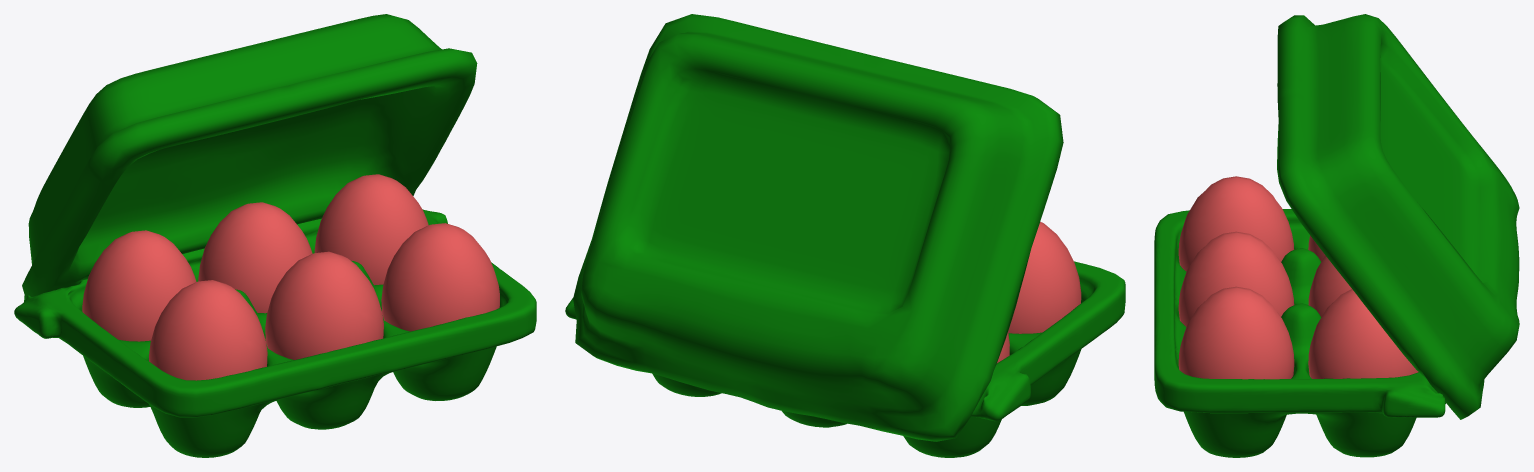
3 views of the same model, side by side, from view 1: azimuth 30°, elevation 25°; view 2: azimuth 150°, elevation 25°; view 3: azimuth 270°, elevation 25° (orthographic). The views are drawn at different scales.
Parts seen in each view (by area): view 1: ZBrush_defualt_group001zz, Group006, Group2, Group007, Group005, Group004, Group003; view 2: ZBrush_defualt_group001zz, Group007; view 3: ZBrush_defualt_group001zz, Group2, Group003, Group007, Group006, Group004.
Part boxes in pixels (bbox=[...]): ZBrush_defualt_group001zz: bbox=[14, 14, 536, 457]; Group006: bbox=[265, 251, 383, 359]; Group2: bbox=[381, 223, 499, 331]; Group007: bbox=[149, 280, 267, 380]; Group005: bbox=[82, 230, 196, 341]; Group004: bbox=[198, 202, 312, 313]; Group003: bbox=[314, 174, 428, 285]; ZBrush_defualt_group001zz: bbox=[565, 14, 1125, 457]; Group007: bbox=[1008, 222, 1081, 333]; ZBrush_defualt_group001zz: bbox=[1154, 14, 1519, 457]; Group2: bbox=[1178, 286, 1294, 379]; Group003: bbox=[1308, 289, 1418, 378]; Group007: bbox=[1178, 176, 1294, 271]; Group006: bbox=[1178, 231, 1294, 326]; Group004: bbox=[1308, 255, 1351, 316].
Bounding box in the file's own units: 25.23 × 19.21 × 20.16.
